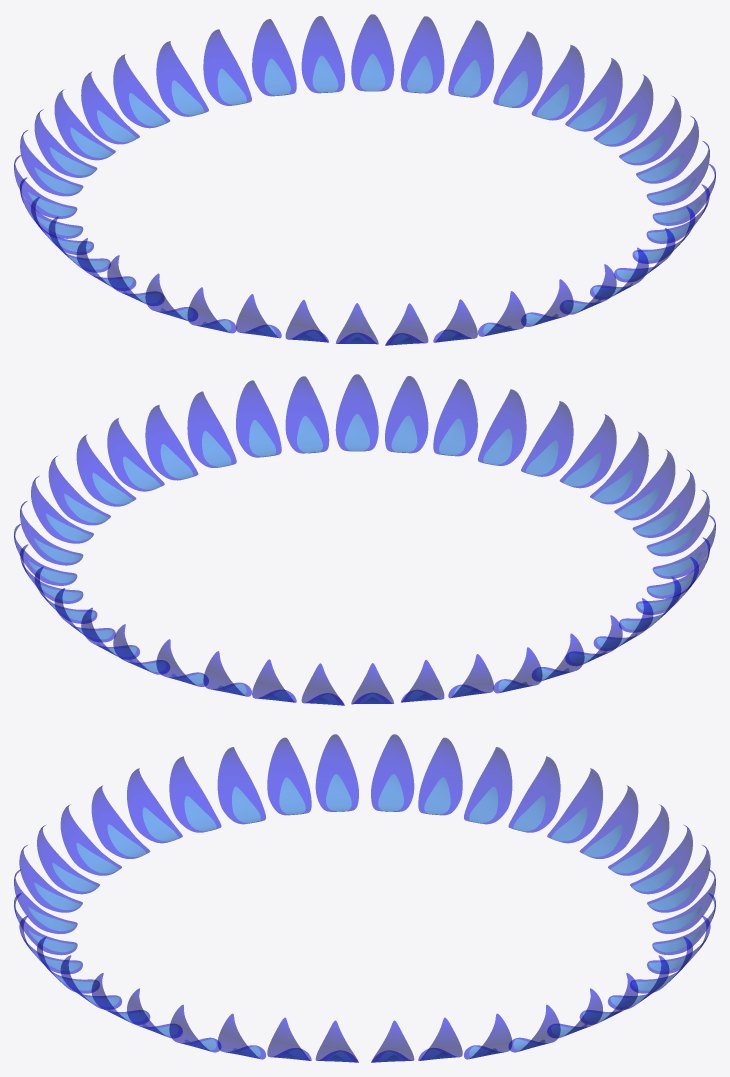
The model's file is honoo.fbx.
The picture shows the model from 3 angles, top to bottom: view 1: azimuth 30°, elevation 25°; view 2: azimuth 150°, elevation 25°; view 3: azimuth 270°, elevation 25°; orthographic projection.
Visible parts, largest first — view 1: pCube13; view 2: pCube13; view 3: pCube13.
Boxes of the visible parts, x1,y1,x2,y2 form: pCube13: [14, 14, 715, 345]; pCube13: [14, 374, 715, 705]; pCube13: [14, 734, 715, 1062].
Bounding box in the file's own units: 3.15 × 0.3016 × 3.19.
